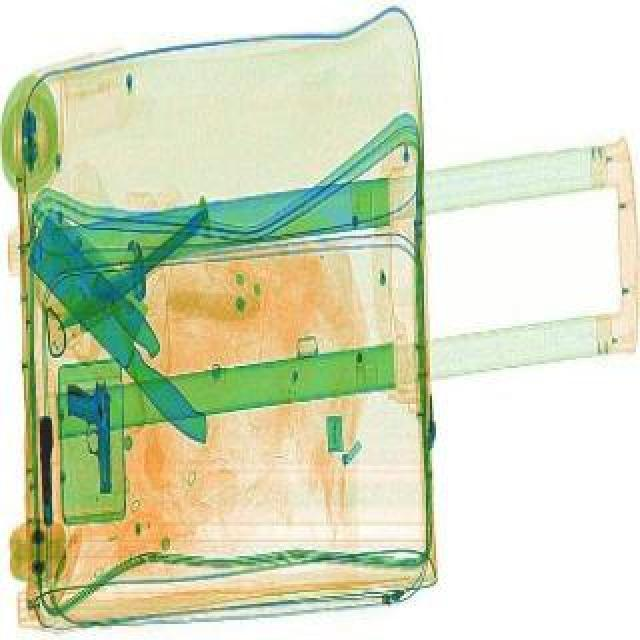gun: (66, 378, 114, 490), (38, 414, 56, 522)
knife: (0, 204, 252, 444), (22, 196, 168, 356), (50, 208, 218, 334)
